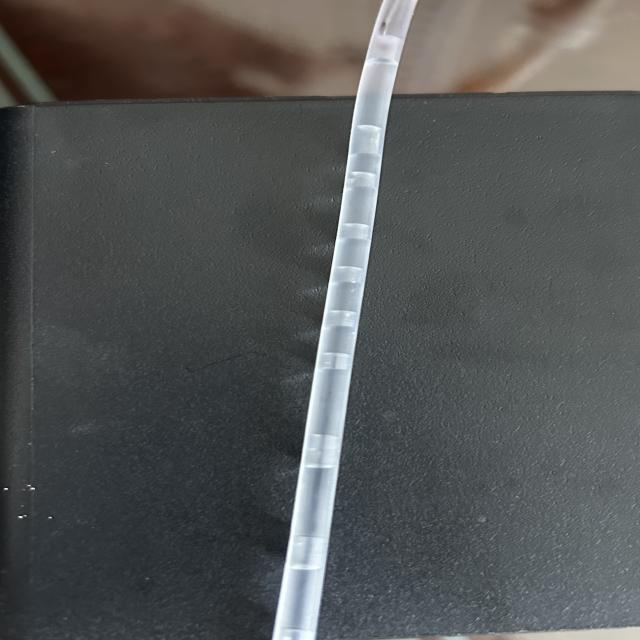bubble: (290, 426, 358, 471), (360, 30, 415, 67), (342, 118, 388, 158), (310, 307, 374, 329), (336, 167, 390, 193), (306, 350, 374, 370), (317, 262, 377, 282), (334, 220, 376, 242)
